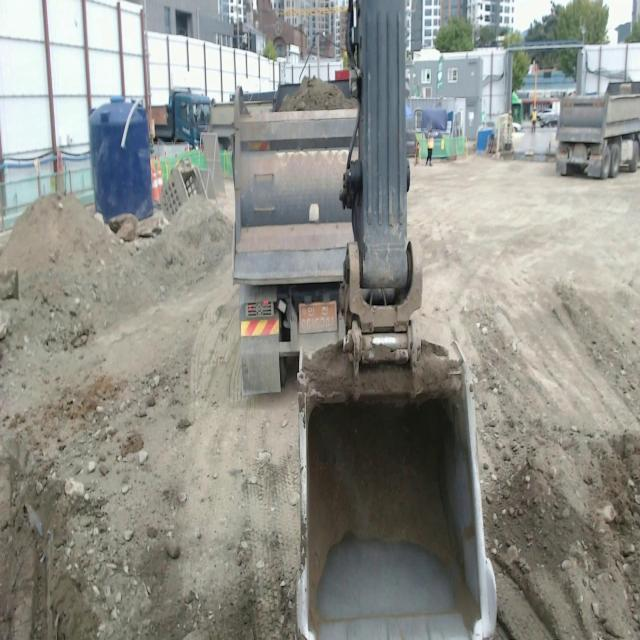red-sand: (486, 433, 640, 639), (0, 439, 97, 639)
white-sand: (0, 181, 299, 639), (408, 156, 640, 434)
